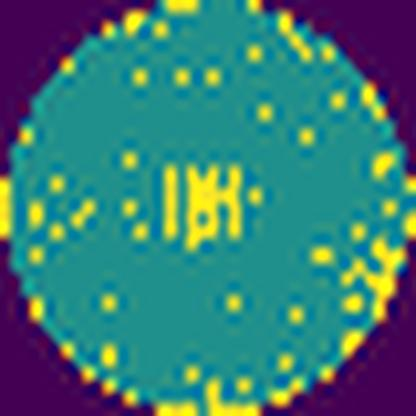Center: (163, 160, 242, 250)
